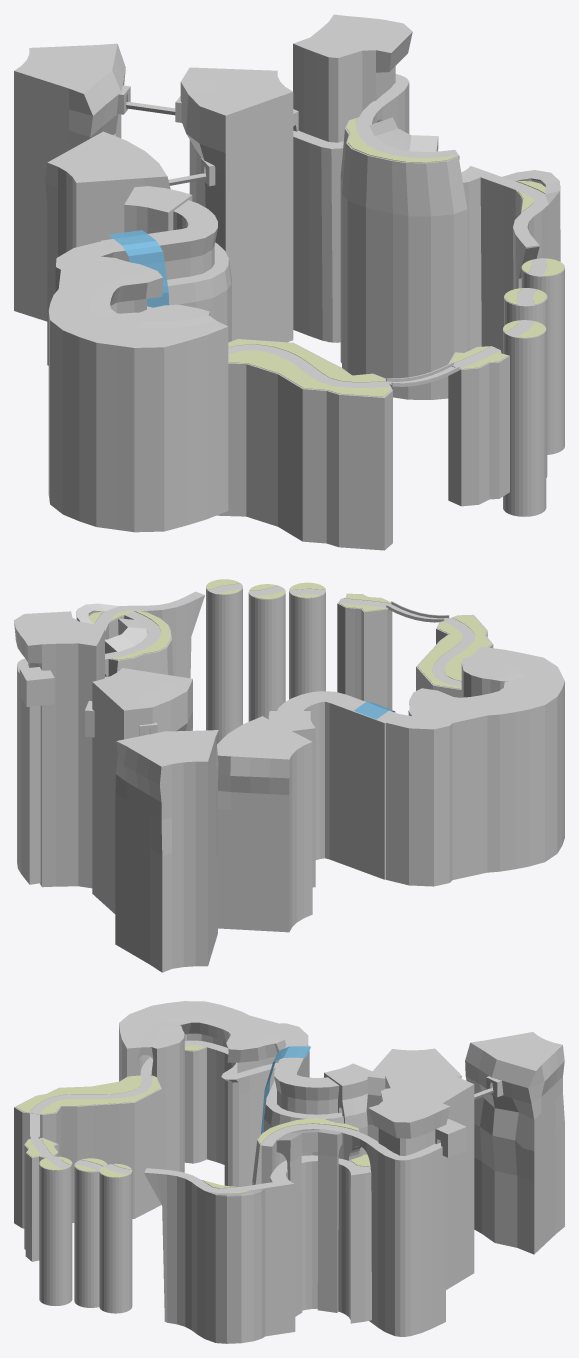
File: LD 2 - Canyon track v04.fbx
3 views of the same model, one above another, from view 1: azimuth 30°, elevation 25°; view 2: azimuth 150°, elevation 25°; view 3: azimuth 270°, elevation 25° (orthographic). The views are drawn at different scales.
Parts seen in each view (by area): view 1: Cube.010, Cube.017, Cube.007, Cube, Cube.019, Cube.004, Cube.021, Cube.003, Cube.006, Cube.008, Cylinder, Cylinder.002 (+7 smaller); view 2: Cube.010, Cube.004, Cube.003, Cube.021, Cube.006, Cube, Cube.017, Cube.008, Cylinder.002, Cylinder.001, Cylinder, Cube.019 (+6 smaller); view 3: Cube.019, Cube.010, Cube.004, Cube.017, Cube.007, Cube, Cylinder.008, Cube.006, Cylinder.002, Cylinder, Cube.021, Cylinder.001 (+6 smaller).
Part boxes in pixels (x1=…): Cube.010: x1=48, y1=241, x2=228, y2=532; Cube.017: x1=340, y1=74, x2=467, y2=399; Cube.007: x1=217, y1=339, x2=392, y2=550; Cube: x1=180, y1=67, x2=293, y2=342; Cube.019: x1=293, y1=130, x2=560, y2=353; Cube.004: x1=14, y1=43, x2=125, y2=321; Cube.021: x1=293, y1=14, x2=412, y2=342; Cube.003: x1=45, y1=131, x2=170, y2=365; Cube.006: x1=100, y1=186, x2=231, y2=342; Cube.008: x1=448, y1=346, x2=509, y2=506; Cylinder: x1=503, y1=320, x2=546, y2=516; Cylinder.002: x1=521, y1=258, x2=564, y2=454; Cube.010: x1=386, y1=646, x2=564, y2=886; Cube.004: x1=115, y1=730, x2=218, y2=972; Cube.003: x1=217, y1=716, x2=312, y2=932; Cube.021: x1=14, y1=611, x2=104, y2=888; Cube.006: x1=268, y1=691, x2=397, y2=887; Cube: x1=92, y1=668, x2=192, y2=913; Cube.017: x1=17, y1=611, x2=173, y2=884; Cube.008: x1=337, y1=593, x2=392, y2=709; Cylinder.002: x1=206, y1=583, x2=242, y2=743; Cylinder.001: x1=248, y1=585, x2=285, y2=721; Cylinder: x1=289, y1=582, x2=325, y2=699; Cube.019: x1=76, y1=591, x2=204, y2=678; Cube.019: x1=144, y1=1155, x2=371, y2=1343; Cube.010: x1=119, y1=1001, x2=308, y2=1186; Cube.004: x1=465, y1=1032, x2=564, y2=1254; Cube.017: x1=252, y1=1118, x2=445, y2=1336; Cube.007: x1=14, y1=1075, x2=161, y2=1228; Cube: x1=385, y1=1072, x2=474, y2=1289; Cylinder.008: x1=276, y1=1129, x2=342, y2=1316; Cube.006: x1=264, y1=1045, x2=371, y2=1154; Cylinder.002: x1=99, y1=1164, x2=132, y2=1313; Cylinder: x1=39, y1=1156, x2=72, y2=1305; Cube.021: x1=368, y1=1084, x2=450, y2=1155; Cylinder.001: x1=74, y1=1160, x2=107, y2=1307.
Size of what is drawn, in the model's own units: 9331 by 4866 by 11096.
